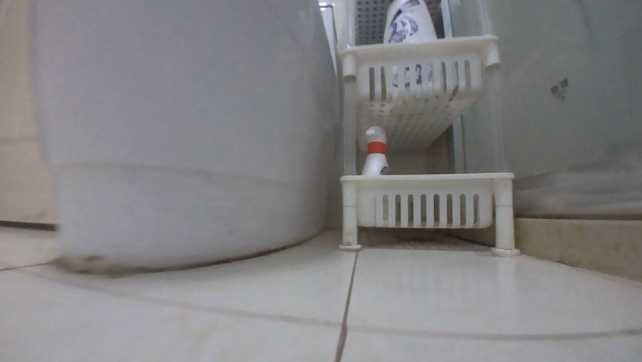toilet: (28, 1, 343, 272)
